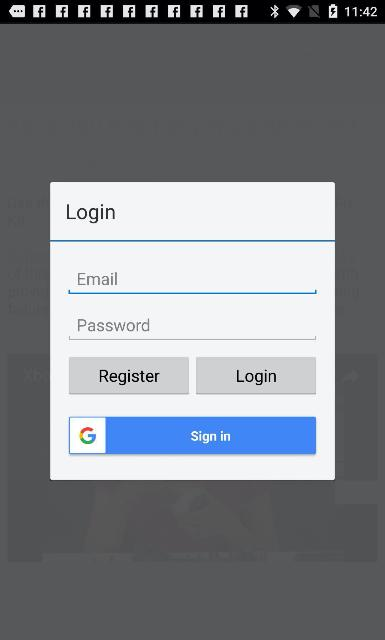EditText: (69, 318, 317, 340), (68, 272, 316, 294)
Image: (70, 418, 105, 452)
Modal: (49, 182, 334, 480)
Text: (78, 318, 150, 332), (101, 370, 160, 386), (67, 204, 115, 223), (77, 272, 116, 286), (237, 370, 276, 384), (191, 431, 230, 443)
TextButton: (69, 357, 189, 395), (196, 358, 316, 394)
TextImageButton: (69, 416, 316, 454)
UpperTaskBar: (0, 0, 384, 22)
